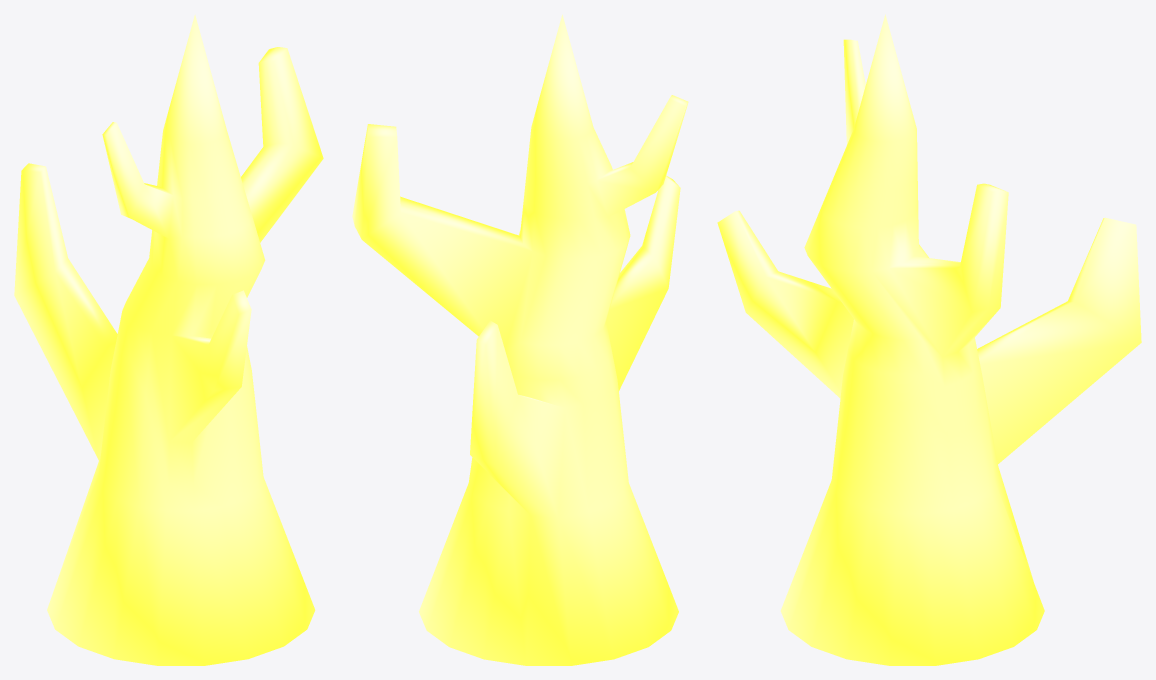
The model's file is fire.fbx.
3 renders of one model, left to right at view 1: azimuth 30°, elevation 25°; view 2: azimuth 150°, elevation 25°; view 3: azimuth 270°, elevation 25°, orthographic. The views are drawn at different scales.
Parts seen in each view (by area): view 1: Cylinder.005; view 2: Cylinder.005; view 3: Cylinder.005.
Boxes of the visible parts, x1,y1,x2,y2 form: Cylinder.005: (14,14,323,665); Cylinder.005: (352,14,688,665); Cylinder.005: (717,14,1141,665).
Bounding box in the file's own units: 15.43 × 31.13 × 20.05.
